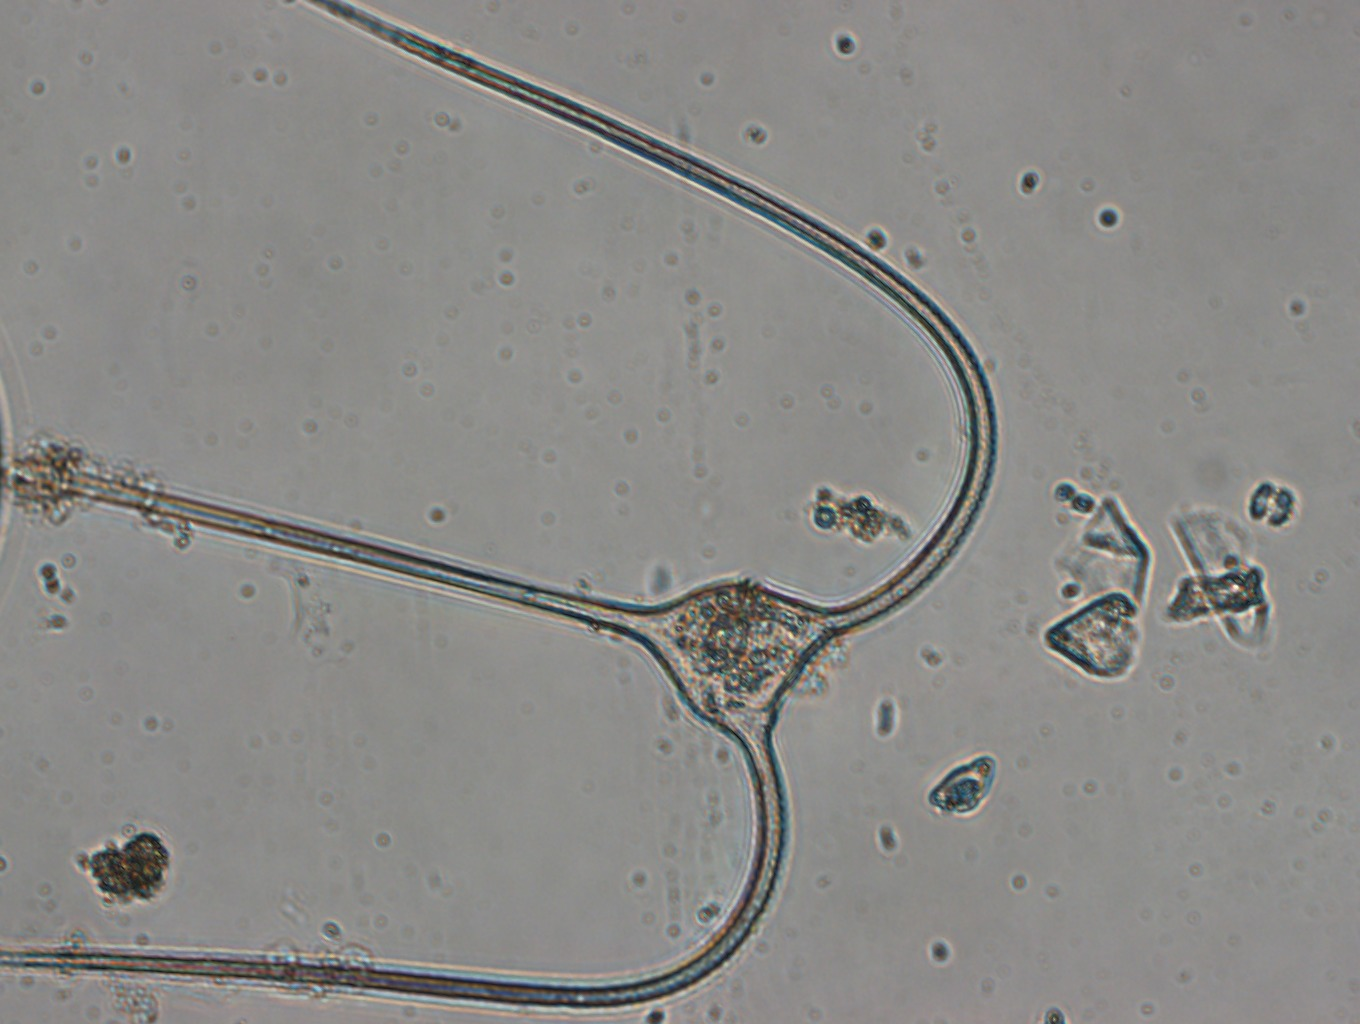ceratium trichoceros: (2, 5, 998, 1013)
